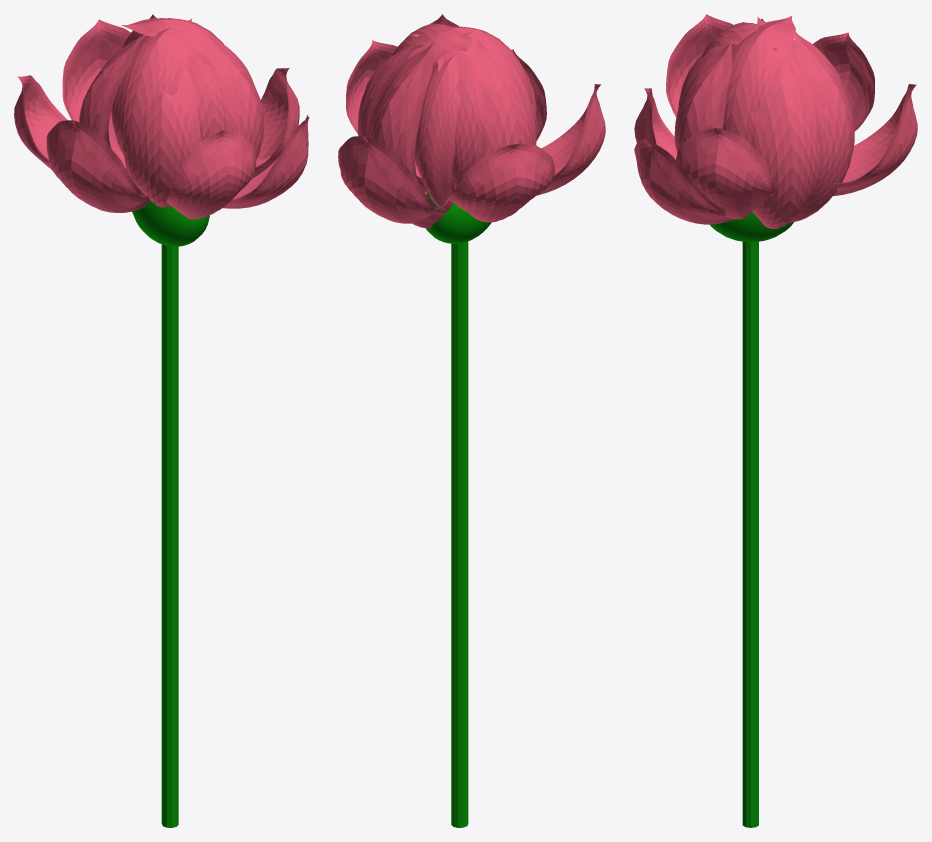
File: Lotus040.fbx
3 renders of one model, left to right at view 1: azimuth 30°, elevation 25°; view 2: azimuth 150°, elevation 25°; view 3: azimuth 270°, elevation 25°, orthographic.
Visible parts, largest first — view 1: pCylinder1, nurbsToPoly16, nurbsToPoly11, nurbsToPoly8, nurbsToPoly21, nurbsToPoly13, nurbsToPoly10, nurbsToPoly24, nurbsToPoly9, nurbsToPoly12, nurbsToPoly14, pSphere4 (+2 smaller); view 2: pCylinder1, nurbsToPoly12, nurbsToPoly10, nurbsToPoly14, nurbsToPoly23, nurbsToPoly17, nurbsToPoly11, nurbsToPoly20, nurbsToPoly9, nurbsToPoly15, pSphere4, nurbsToPoly22 (+2 smaller); view 3: pCylinder1, nurbsToPoly15, nurbsToPoly9, nurbsToPoly17, nurbsToPoly22, nurbsToPoly24, nurbsToPoly10, nurbsToPoly13, nurbsToPoly12, nurbsToPoly11, nurbsToPoly8, pSphere4 (+1 smaller).
Part boxes in pixels (x1,y1,x2,y2): pCylinder1: [161, 244, 178, 827]; nurbsToPoly16: [123, 65, 200, 207]; nurbsToPoly11: [46, 120, 153, 212]; nurbsToPoly8: [166, 130, 256, 219]; nurbsToPoly21: [111, 19, 193, 156]; nurbsToPoly13: [206, 32, 264, 159]; nurbsToPoly10: [62, 19, 130, 121]; nurbsToPoly24: [223, 115, 309, 208]; nurbsToPoly9: [252, 68, 299, 178]; nurbsToPoly12: [14, 75, 67, 169]; nurbsToPoly14: [79, 35, 141, 168]; pSphere4: [132, 190, 209, 246]; pCylinder1: [451, 241, 468, 827]; nurbsToPoly12: [450, 143, 554, 222]; nurbsToPoly10: [338, 136, 451, 223]; nurbsToPoly14: [473, 39, 536, 162]; nurbsToPoly23: [415, 55, 460, 210]; nurbsToPoly17: [369, 41, 448, 228]; nurbsToPoly11: [537, 84, 605, 195]; nurbsToPoly20: [437, 50, 483, 190]; nurbsToPoly9: [346, 40, 397, 133]; nurbsToPoly15: [358, 45, 420, 137]; pSphere4: [426, 193, 491, 243]; nurbsToPoly22: [391, 23, 471, 56]; pCylinder1: [742, 241, 758, 827]; nurbsToPoly15: [748, 56, 822, 228]; nurbsToPoly9: [676, 128, 775, 219]; nurbsToPoly17: [790, 29, 854, 222]; nurbsToPoly22: [722, 15, 795, 141]; nurbsToPoly24: [634, 139, 734, 224]; nurbsToPoly10: [833, 84, 917, 196]; nurbsToPoly13: [674, 41, 732, 153]; nurbsToPoly12: [813, 32, 874, 131]; nurbsToPoly11: [666, 14, 733, 117]; nurbsToPoly8: [634, 88, 677, 159]; pSphere4: [710, 212, 793, 242].
Size of the model in its own units: 16.05 by 51.55 by 16.54.
